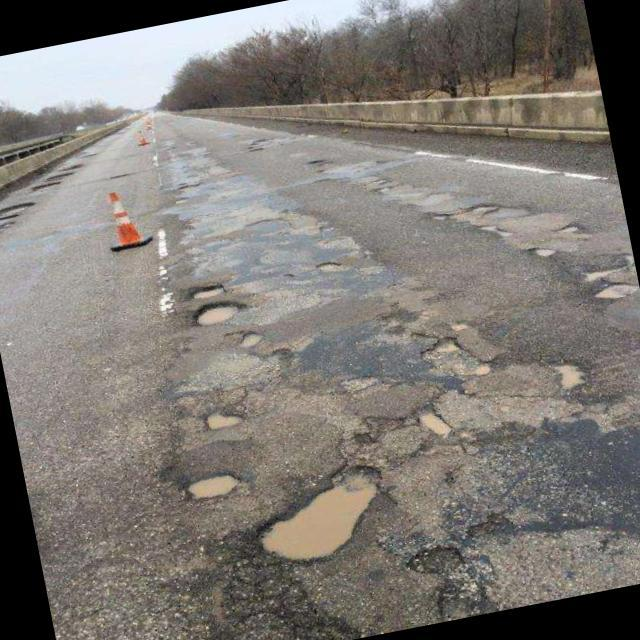Pothole: (245, 460, 393, 572), (408, 542, 468, 580), (188, 470, 244, 504), (436, 198, 500, 226), (414, 404, 456, 444), (550, 357, 590, 398), (192, 296, 244, 326), (250, 210, 292, 242), (592, 278, 636, 307), (203, 406, 244, 432), (428, 332, 464, 359), (186, 280, 228, 302), (462, 358, 501, 379), (580, 264, 618, 285), (480, 220, 513, 240), (240, 327, 265, 351), (319, 256, 346, 276), (536, 244, 556, 259), (561, 220, 578, 237), (373, 183, 394, 194)
